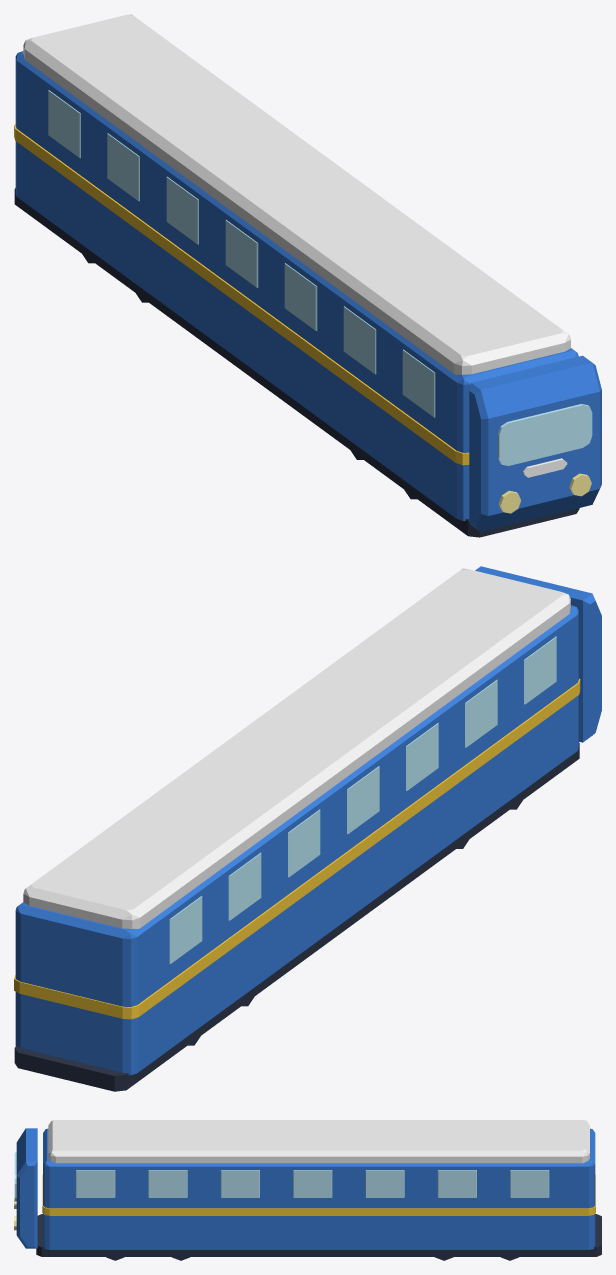
File: prop_train.glb
3 views of the same model, one above another, from view 1: azimuth 30°, elevation 25°; view 2: azimuth 150°, elevation 25°; view 3: azimuth 270°, elevation 25° (orthographic). The views are drawn at different scales.
Visible parts, largest first — view 1: roof, main, nose, windows, stripe, skirt, screen, lamps; view 2: main, roof, windows, stripe, skirt, nose; view 3: main, roof, windows, stripe, skirt, nose.
Boxes of the visible parts, x1,y1,x2,y2 form: roof: [23, 14, 570, 374]; main: [15, 51, 578, 520]; nose: [469, 355, 601, 531]; windows: [48, 90, 435, 417]; stripe: [14, 124, 469, 465]; skirt: [14, 188, 579, 537]; screen: [497, 404, 592, 465]; lamps: [498, 473, 591, 513]; main: [15, 605, 578, 1075]; roof: [23, 568, 570, 928]; windows: [169, 636, 556, 963]; stripe: [14, 678, 580, 1019]; skirt: [14, 742, 579, 1091]; nose: [475, 566, 601, 742]; main: [43, 1128, 595, 1249]; roof: [48, 1120, 589, 1163]; windows: [75, 1170, 549, 1197]; stripe: [42, 1174, 595, 1215]; skirt: [36, 1214, 601, 1256]; nose: [16, 1128, 37, 1248].
Bounding box in the file's own units: 0.7228 × 1 × 4.86.
